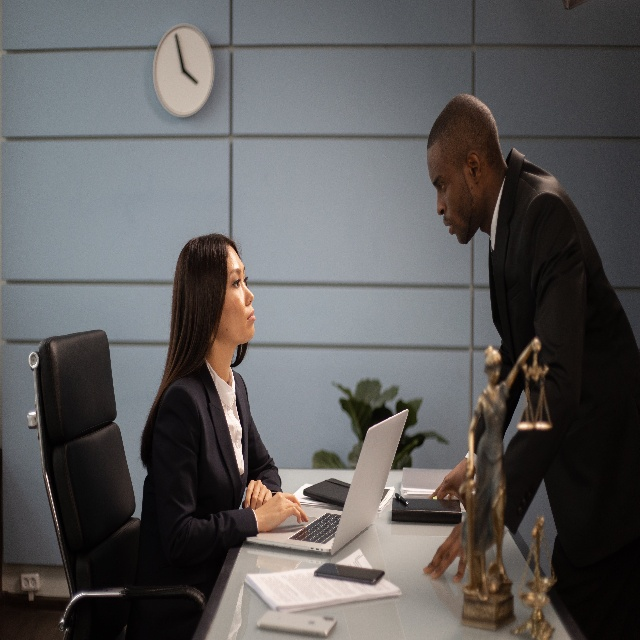Sin_guantes: (423, 522, 467, 583), (428, 458, 475, 513), (255, 491, 309, 532), (241, 479, 272, 510)
